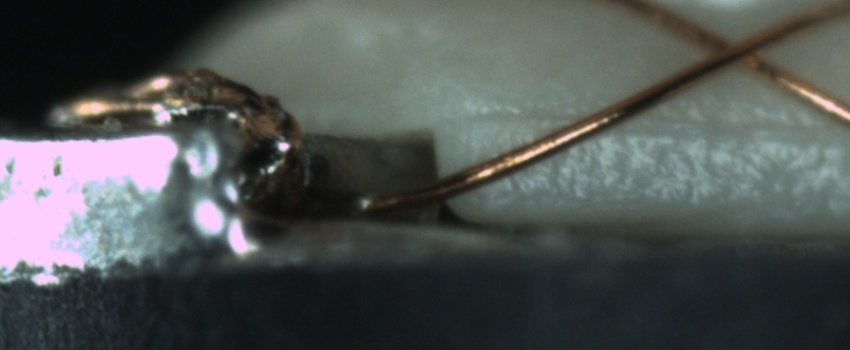CL: (689, 15, 789, 80)
DL: (479, 98, 849, 155)
TE: (51, 65, 189, 122)
